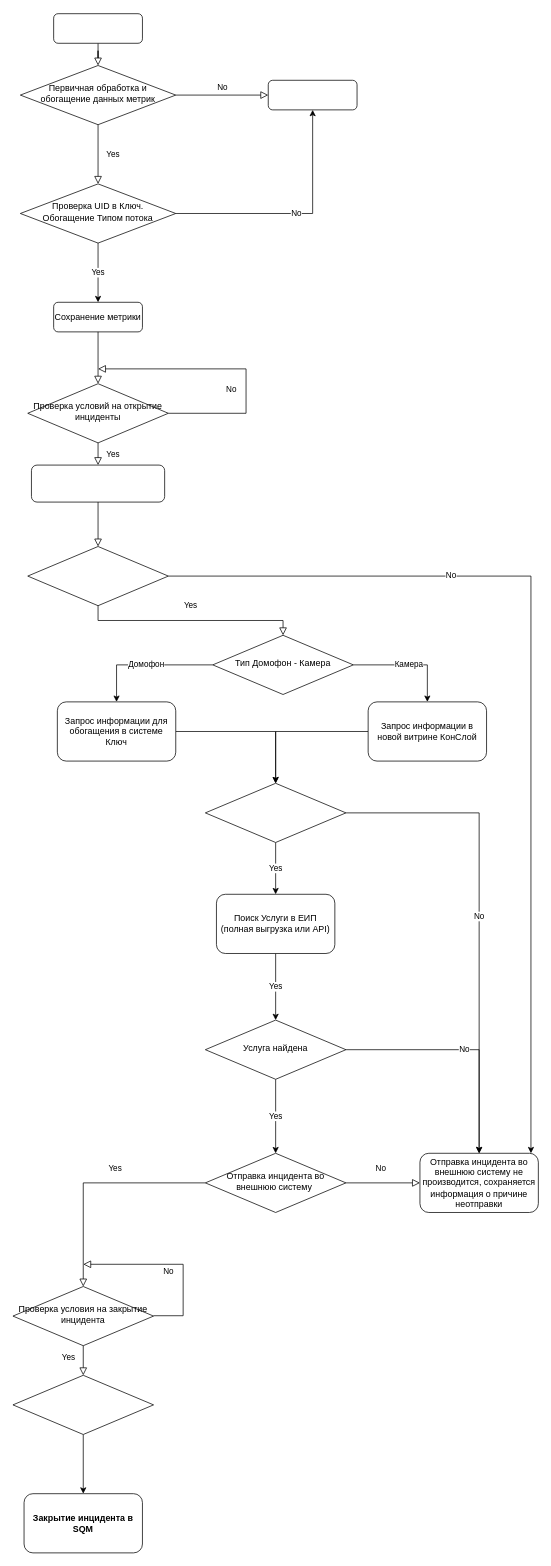
Image size: 551x1566. Some labels were removed from this diagram. Each missing label, with the centre of its shape:
"Данный найдены" goes at (x=275, y=812).
"Метрика направляется в отсев" goes at (x=312, y=95).
"Нотификация настроена?" goes at (x=97, y=576).
"Отправка во внешнюю систему информации о закрытии инцидента НЕ ТРЕБУЕТСЯ" goes at (x=83, y=1404).
"Получение метрик от внешнего источника" goes at (x=97, y=28).
"Создание инцидента в SQM, ожидание всех внутренних таймеров перед отправкой" goes at (x=98, y=483).
